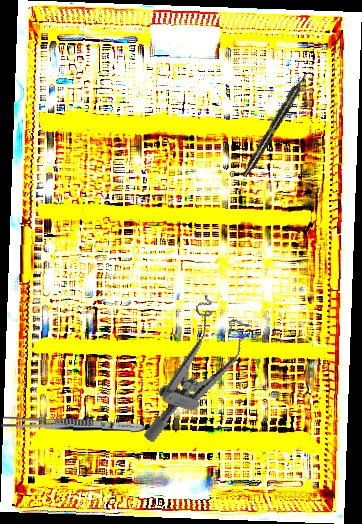Dressing Forceps: (1, 415, 146, 435)
Handpiece: (240, 69, 312, 179)
Speculum: (142, 288, 256, 461)
